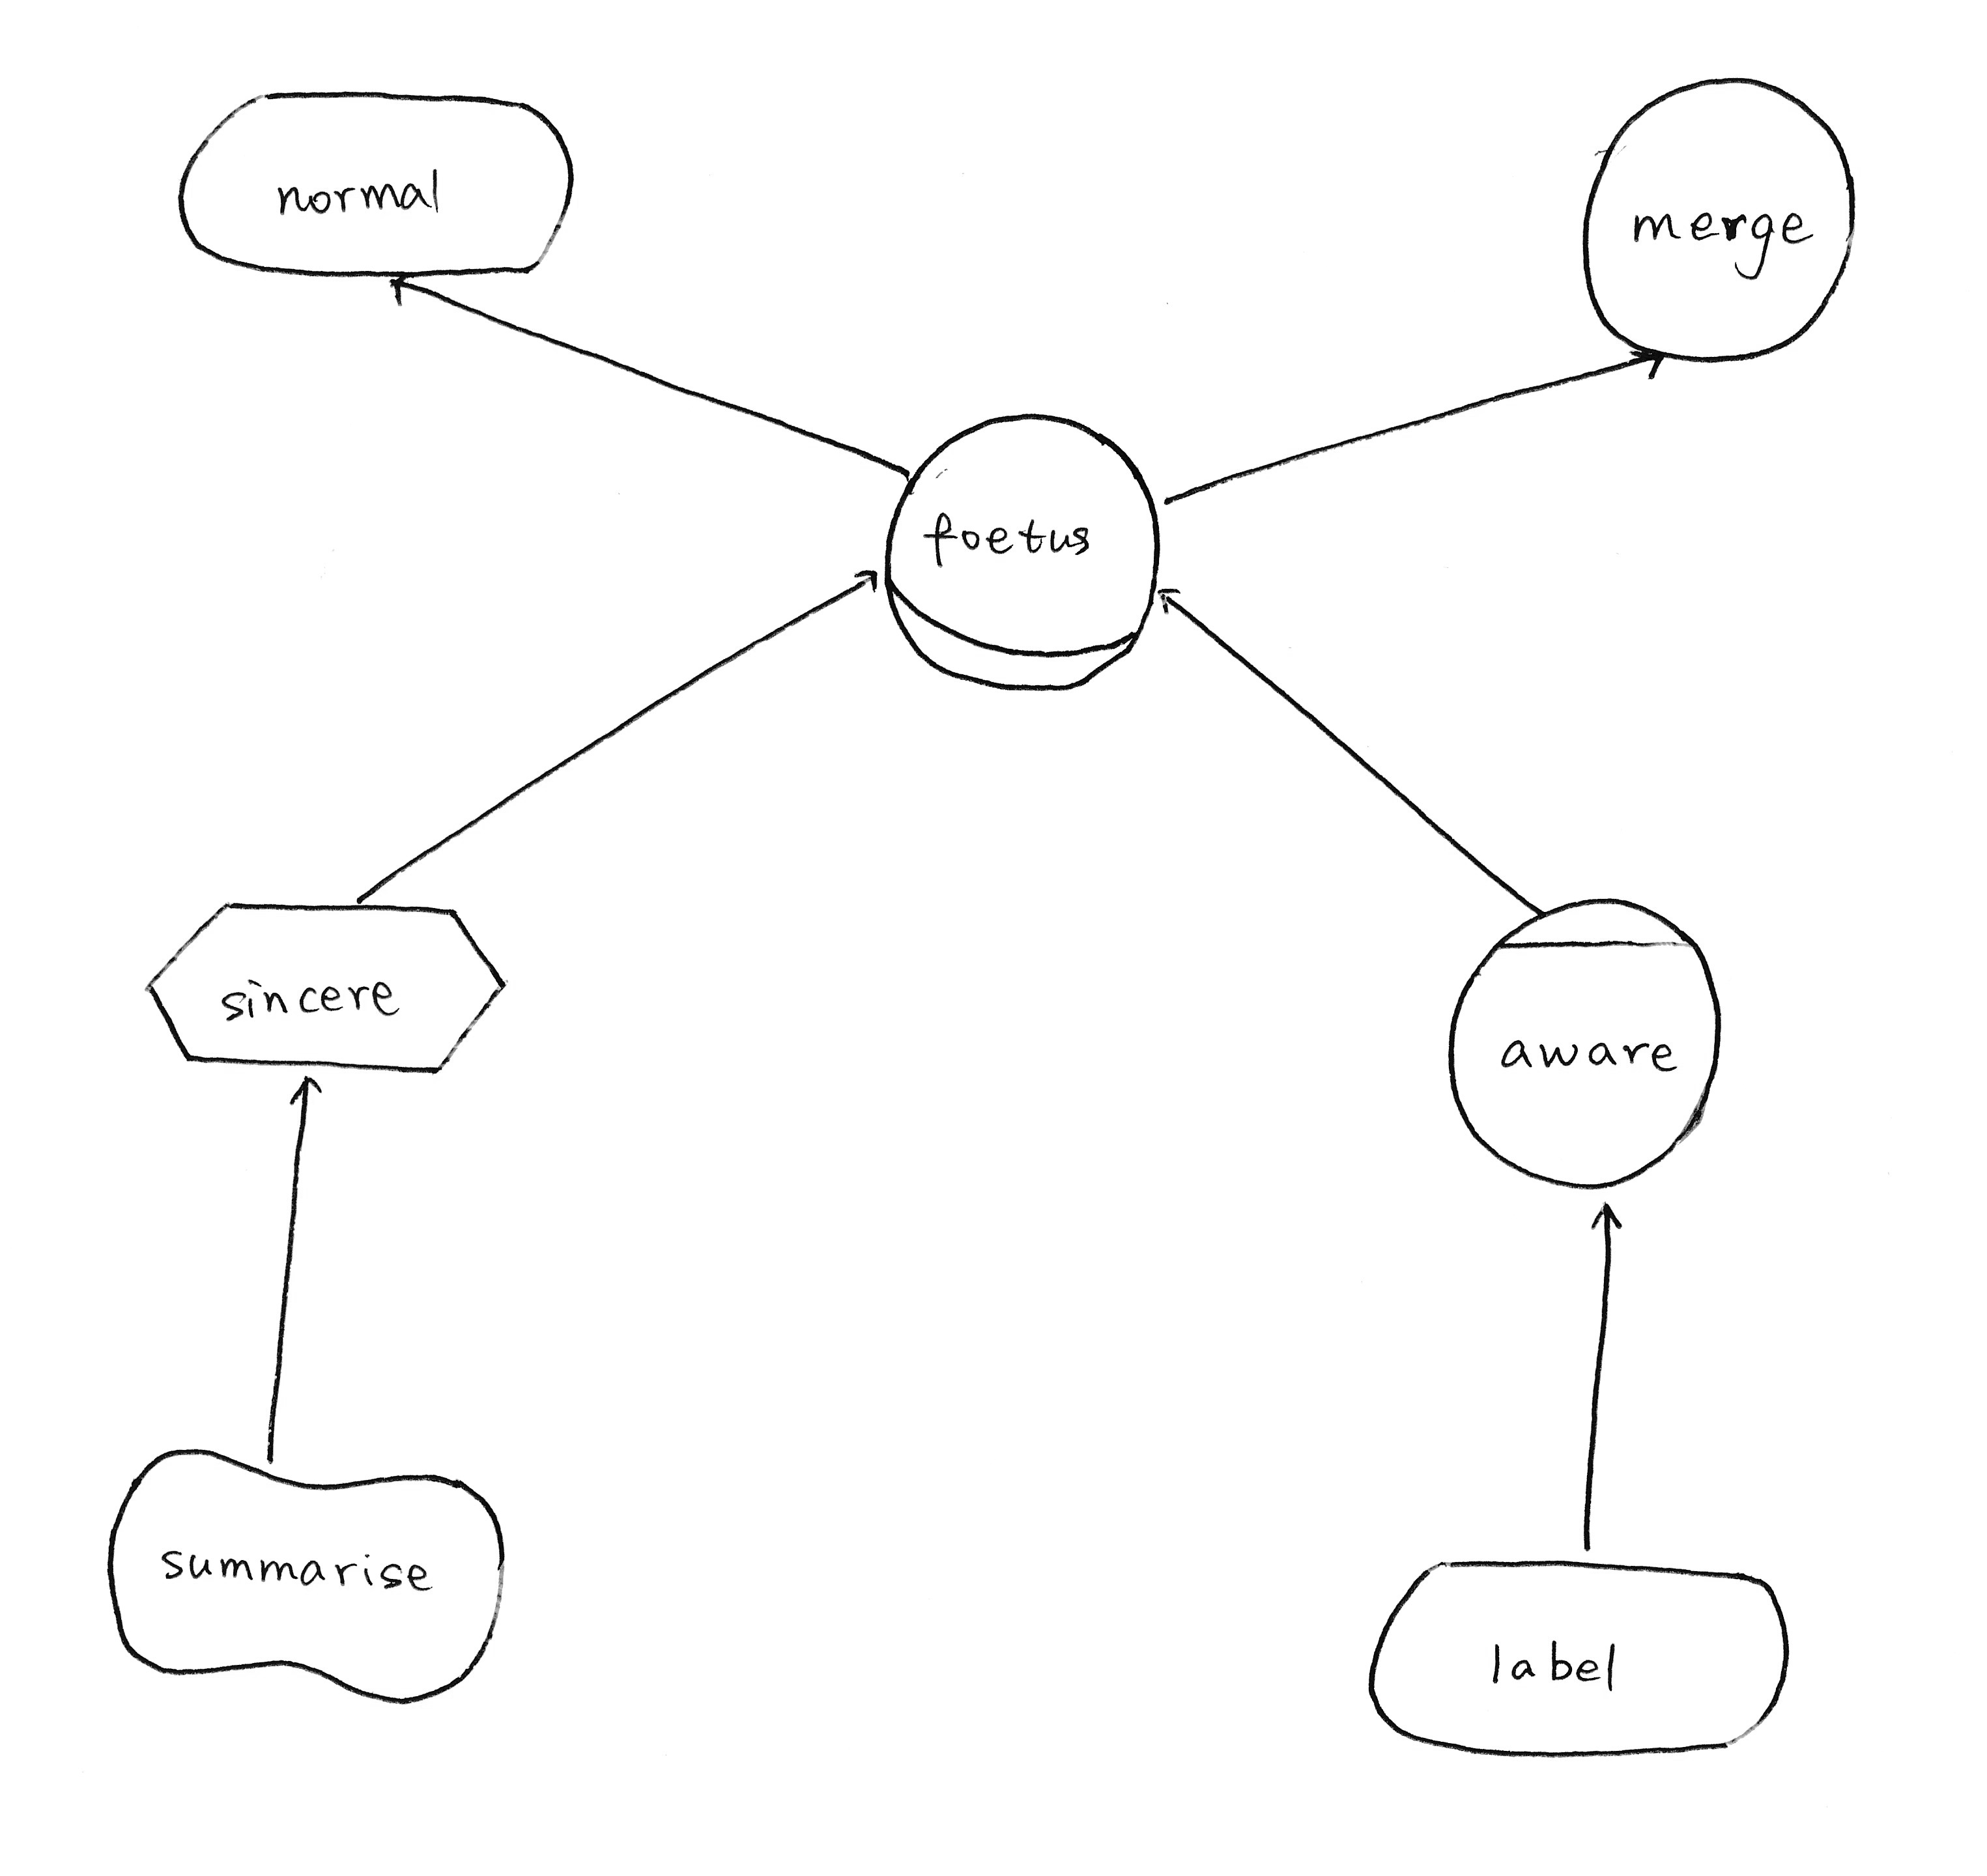actor: (1555, 58, 1883, 390)
agent: (1426, 873, 1740, 1204)
arrow: (1569, 1172, 1638, 1257), (360, 256, 446, 323), (1603, 324, 1678, 388), (1137, 566, 1202, 638), (273, 1061, 337, 1134), (839, 552, 901, 603)
goal: (1343, 1536, 1812, 1786), (153, 67, 601, 307)
quality: (85, 1419, 534, 1724)
role: (857, 397, 1181, 707)
task: (127, 878, 538, 1098)
